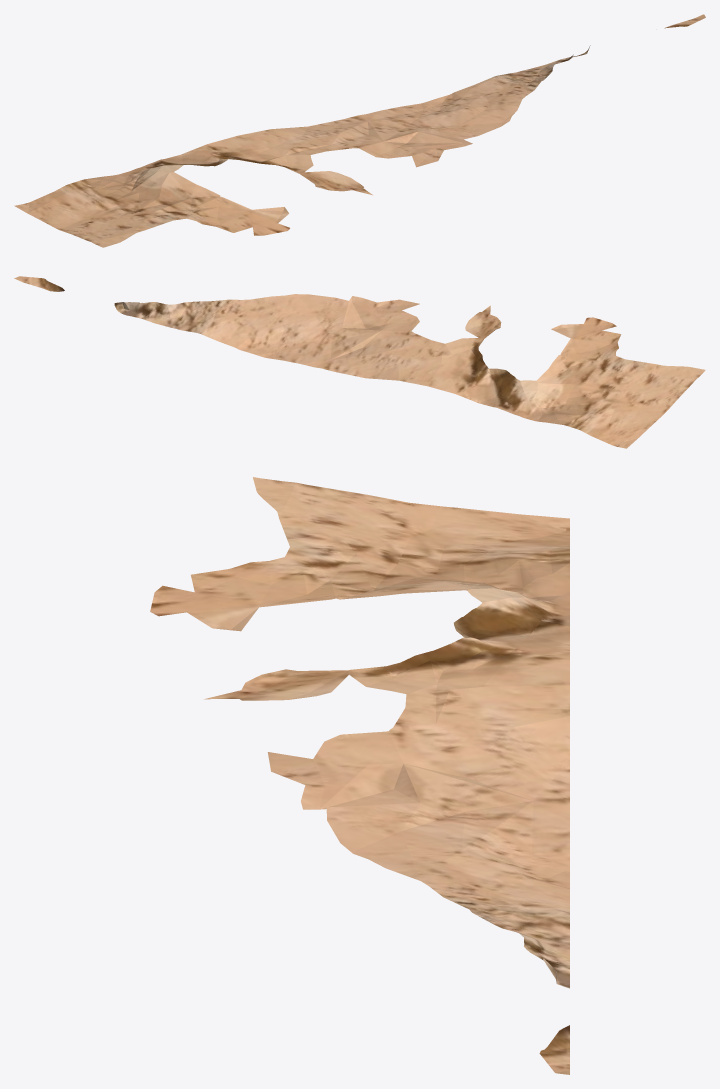
3 views of the same model, one above another, from view 1: azimuth 30°, elevation 25°; view 2: azimuth 150°, elevation 25°; view 3: azimuth 270°, elevation 25° (orthographic). The views are drawn at different scales.
Size of the model in its own units: 2.05 by 0.0677 by 0.6075.
1 material, 1 textured.
